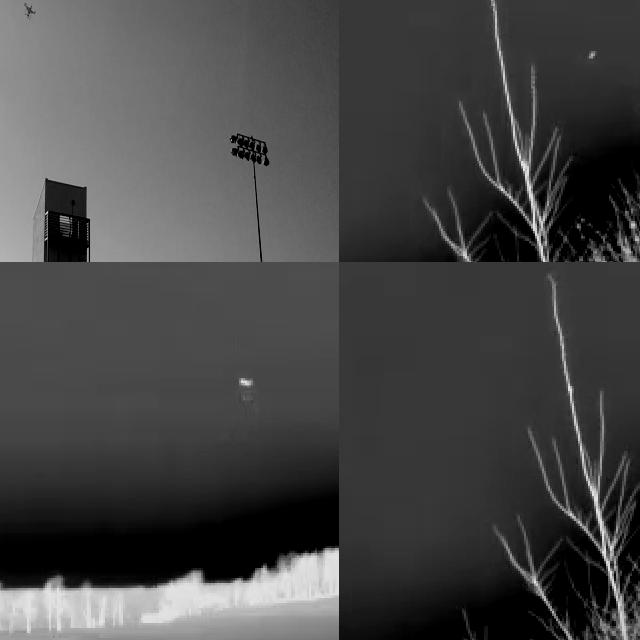0: (577, 42, 603, 72), (562, 380, 578, 402)
1: (230, 373, 262, 401)
drone: (20, 0, 38, 23)
